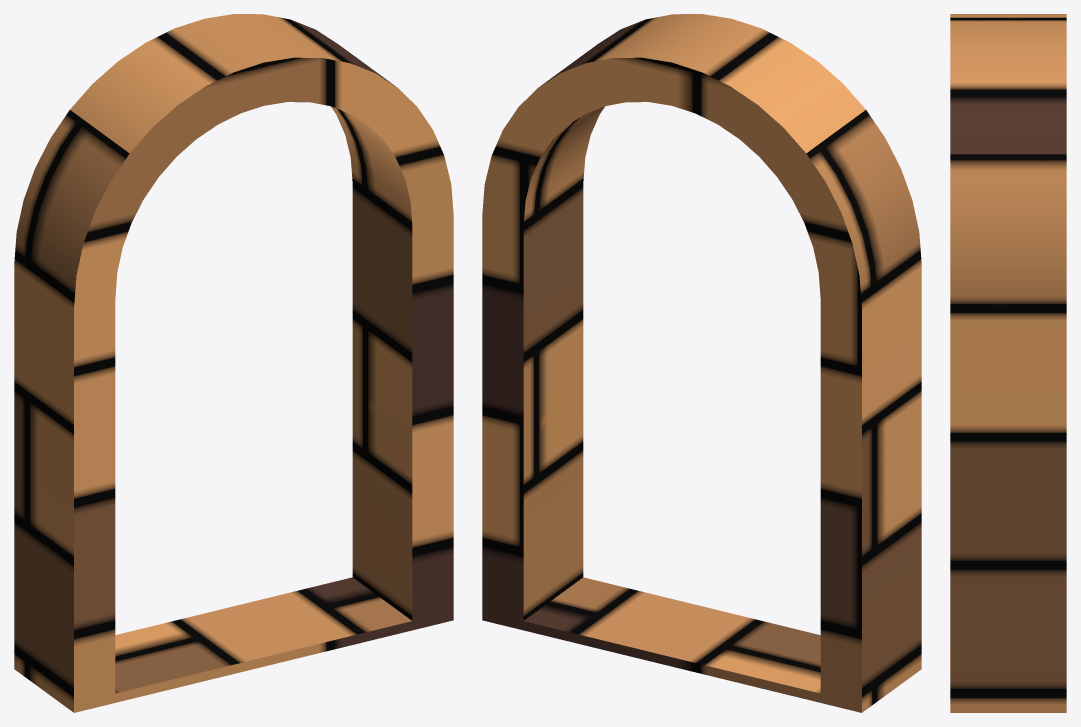
The model's file is Arco.fbx.
3 views of the same model, side by side, from view 1: azimuth 30°, elevation 25°; view 2: azimuth 150°, elevation 25°; view 3: azimuth 270°, elevation 25° (orthographic). The views are drawn at different scales.
Parts seen in each view (by area): view 1: Cube; view 2: Cube; view 3: Cube.
Boxes of the visible parts, x1,y1,x2,y2 form: Cube: [14, 14, 453, 712]; Cube: [482, 14, 921, 712]; Cube: [950, 14, 1066, 712].
Size of the model in its own units: 227 by 62.08 by 346.
